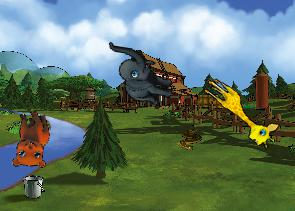bear: (5, 108, 53, 171)
elephant: (101, 41, 178, 107)
giraffe: (194, 74, 284, 152)
